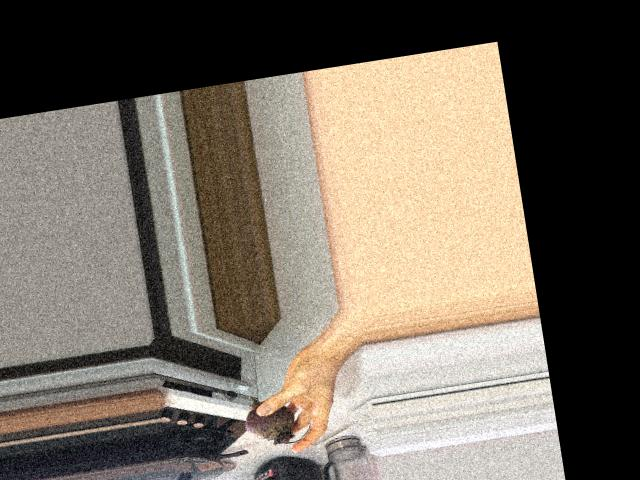beet: (241, 387, 311, 449)
